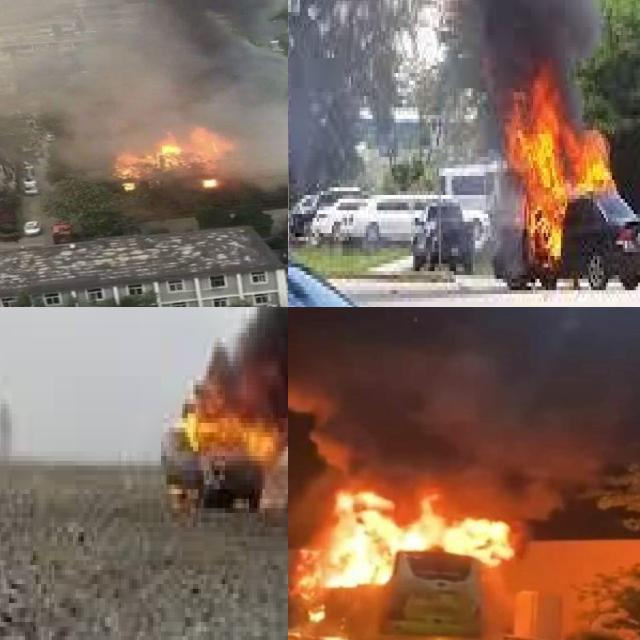fire: (296, 487, 516, 640), (498, 65, 618, 260), (161, 361, 288, 512), (106, 125, 250, 192)
smoke: (288, 319, 609, 507), (0, 0, 288, 181), (410, 0, 601, 115)
